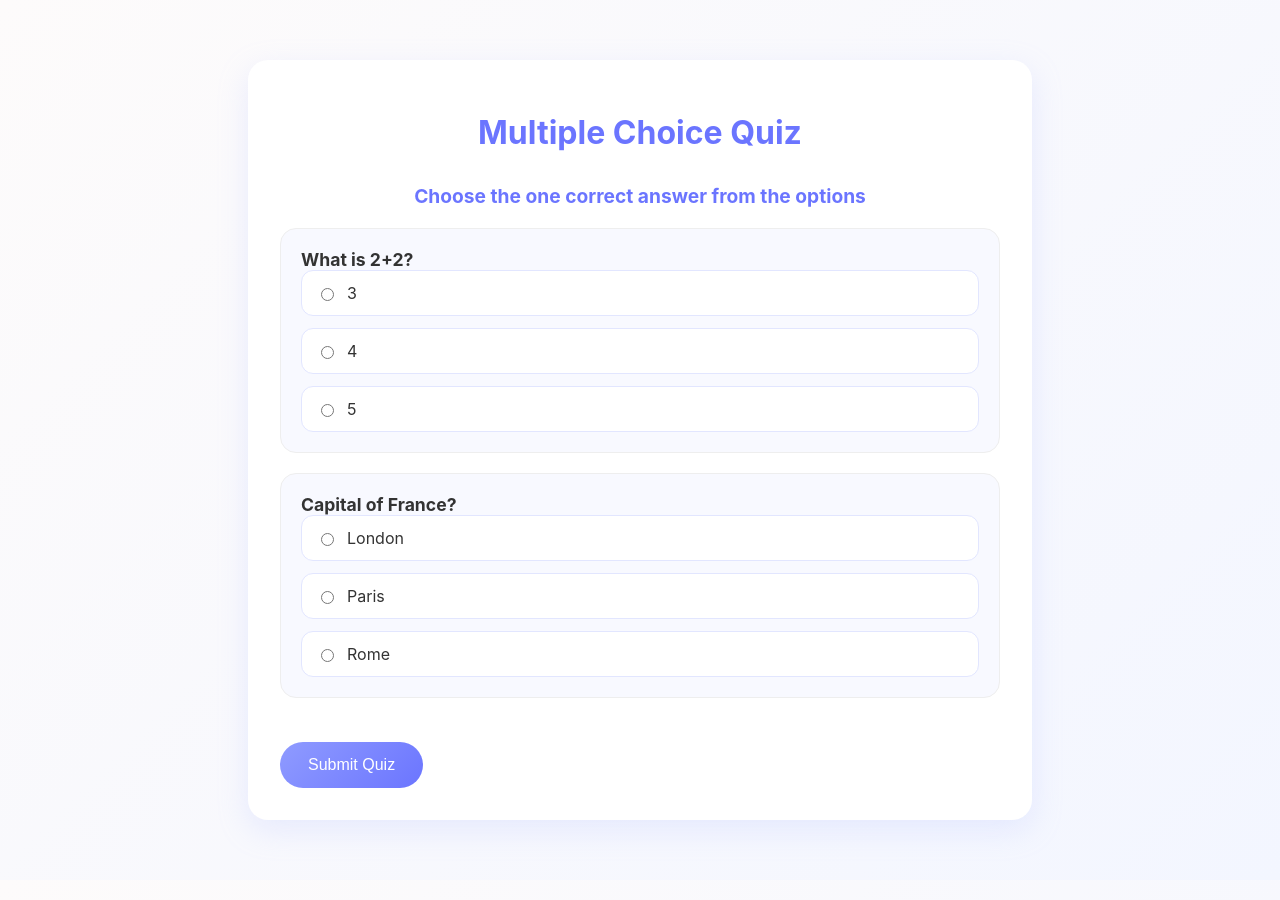
Test: QuizPage Component › marks correct and wrong answers after submission
Note: Select one correct, one wrong
Click the radio button labelled "4".
click(328, 352)  # box [321,346,334,359]
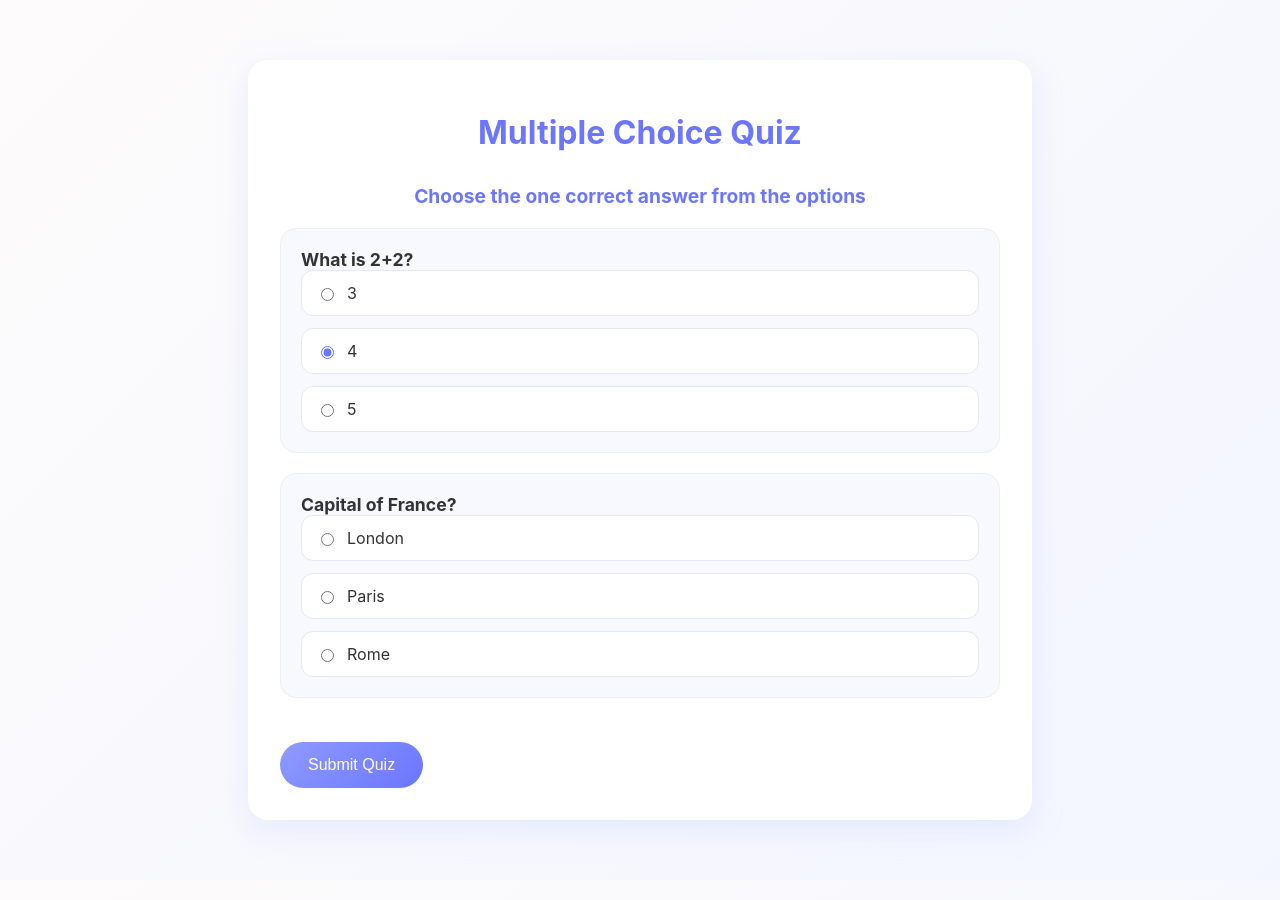
Click the radio button labelled "London".
click(328, 539)  # box [321,533,334,546]
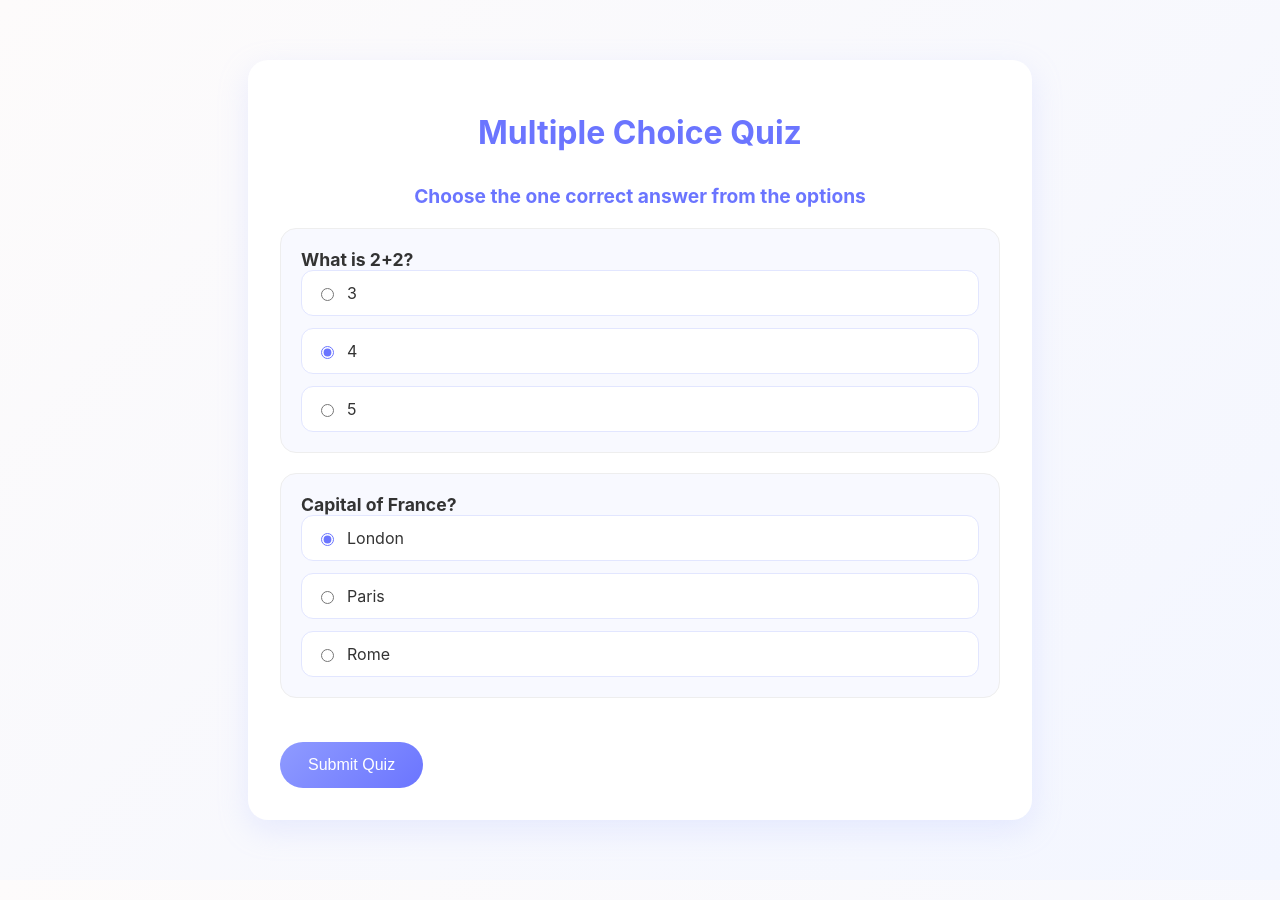
Click the button "Submit Quiz".
click(352, 765)  # box [280,742,423,788]
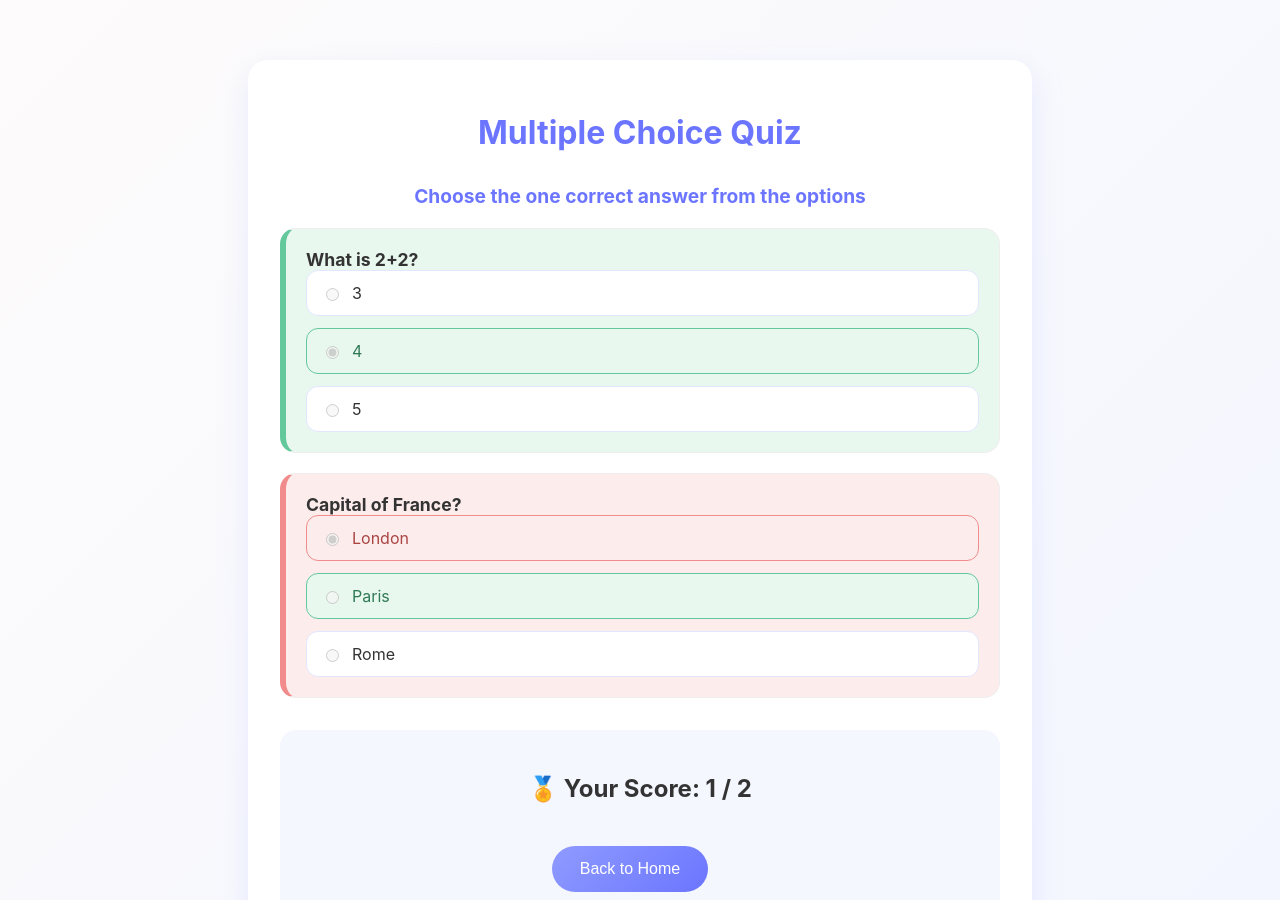
Now the heading "🏅 Your Score: 1 / 2" is shown, box [528,774,752,802]
